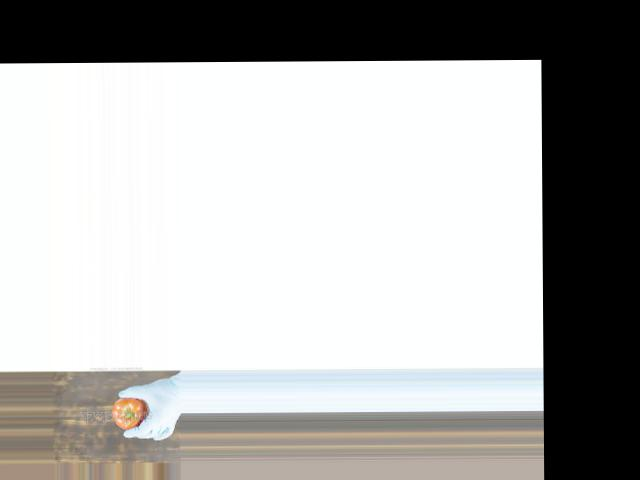tomato: (111, 397, 147, 429)
